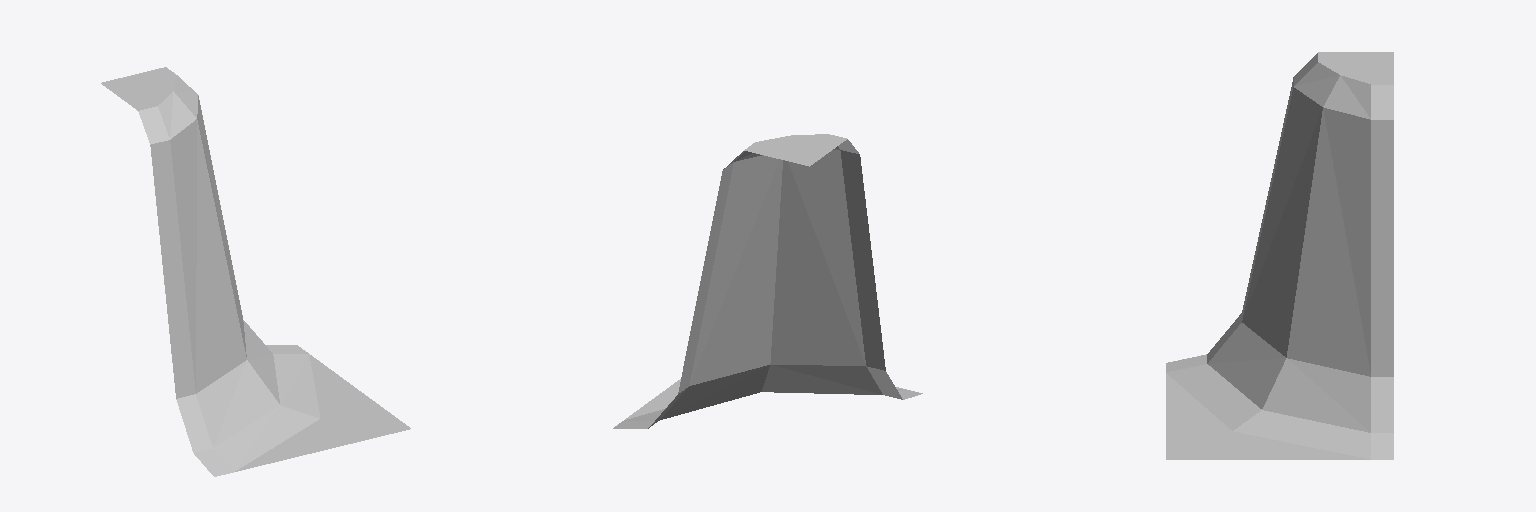
File: cave_wall_outer.obj
3 views of the same model, side by side, from view 1: azimuth 30°, elevation 25°; view 2: azimuth 150°, elevation 25°; view 3: azimuth 270°, elevation 25° (orthographic).
Parts seen in each view (by area): view 1: cave_wall_outer_Cave_Wall_Outer; view 2: cave_wall_outer_Cave_Wall_Outer; view 3: cave_wall_outer_Cave_Wall_Outer.
Part boxes in pixels (bbox=[...]): cave_wall_outer_Cave_Wall_Outer: bbox=[101, 67, 410, 476]; cave_wall_outer_Cave_Wall_Outer: bbox=[613, 134, 922, 428]; cave_wall_outer_Cave_Wall_Outer: bbox=[1166, 52, 1393, 459].
Bounding box in the file's own units: 1 × 1.5 × 1.